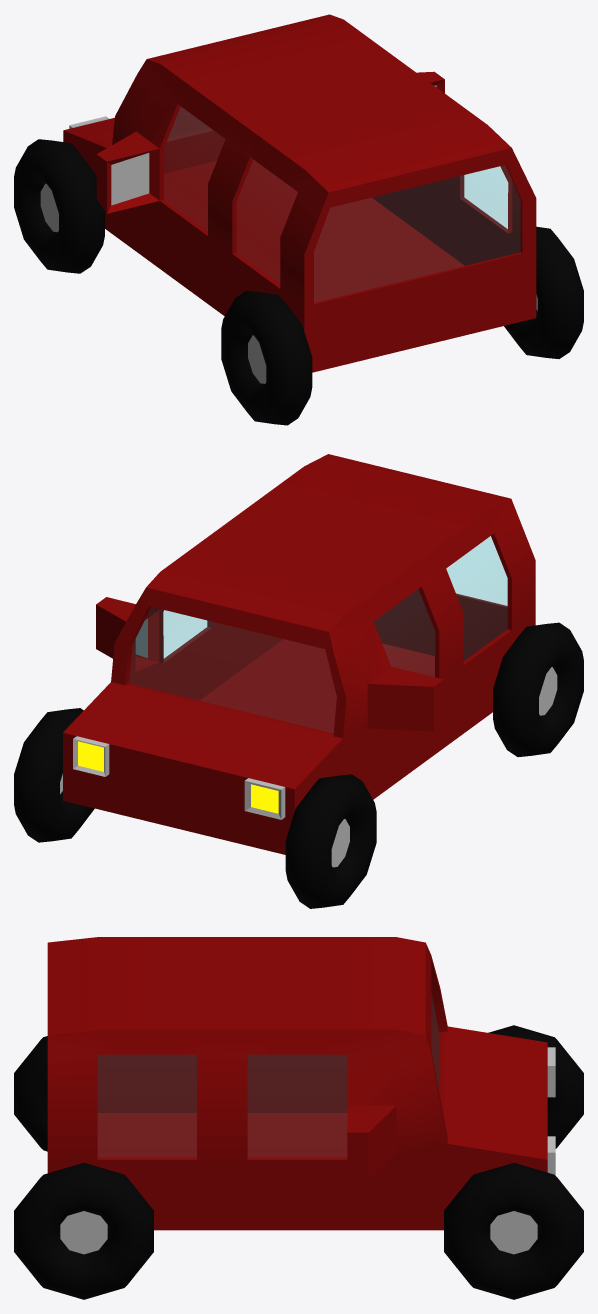
File: CarMovingRegular Car.fbx
3 renders of one model, top to bottom at view 1: azimuth 30°, elevation 25°; view 2: azimuth 150°, elevation 25°; view 3: azimuth 270°, elevation 25°, orthographic. The views are drawn at different scales.
Visible parts, largest first — view 1: pCube1, pTorus5; view 2: pCube1, pTorus5; view 3: pCube1, pTorus5.
Part boxes in pixels (x1,y1,x2,y2): pCube1: (63, 14, 536, 372); pTorus5: (14, 139, 583, 425); pCube1: (63, 454, 535, 854); pTorus5: (14, 622, 583, 908); pCube1: (47, 937, 555, 1230); pTorus5: (14, 1025, 583, 1299).
Bounding box in the file's own units: 6.59 × 4.42 × 9.28.
